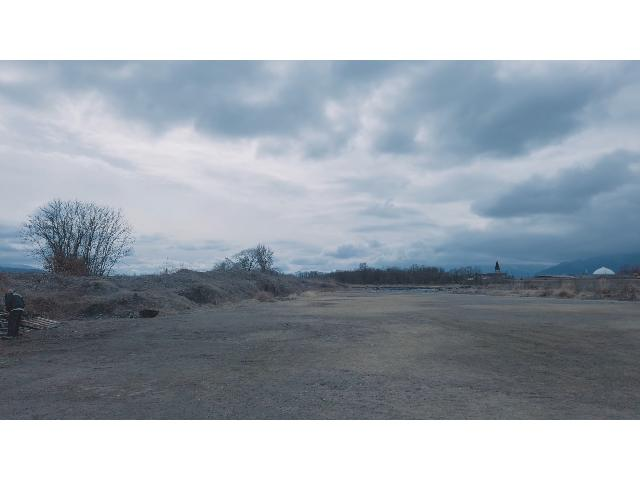Anti-Drone: (328, 266, 344, 276)
